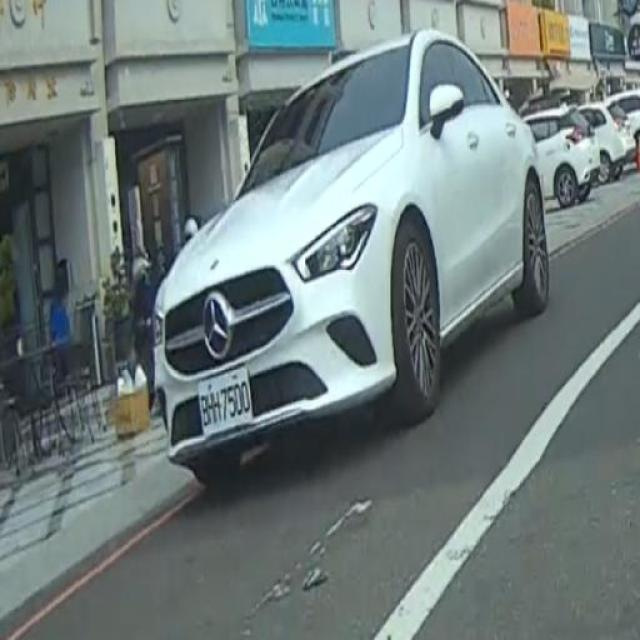Legalparking: (102, 11, 575, 512)
